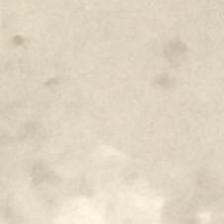Non_Crack: (8, 2, 223, 224)
